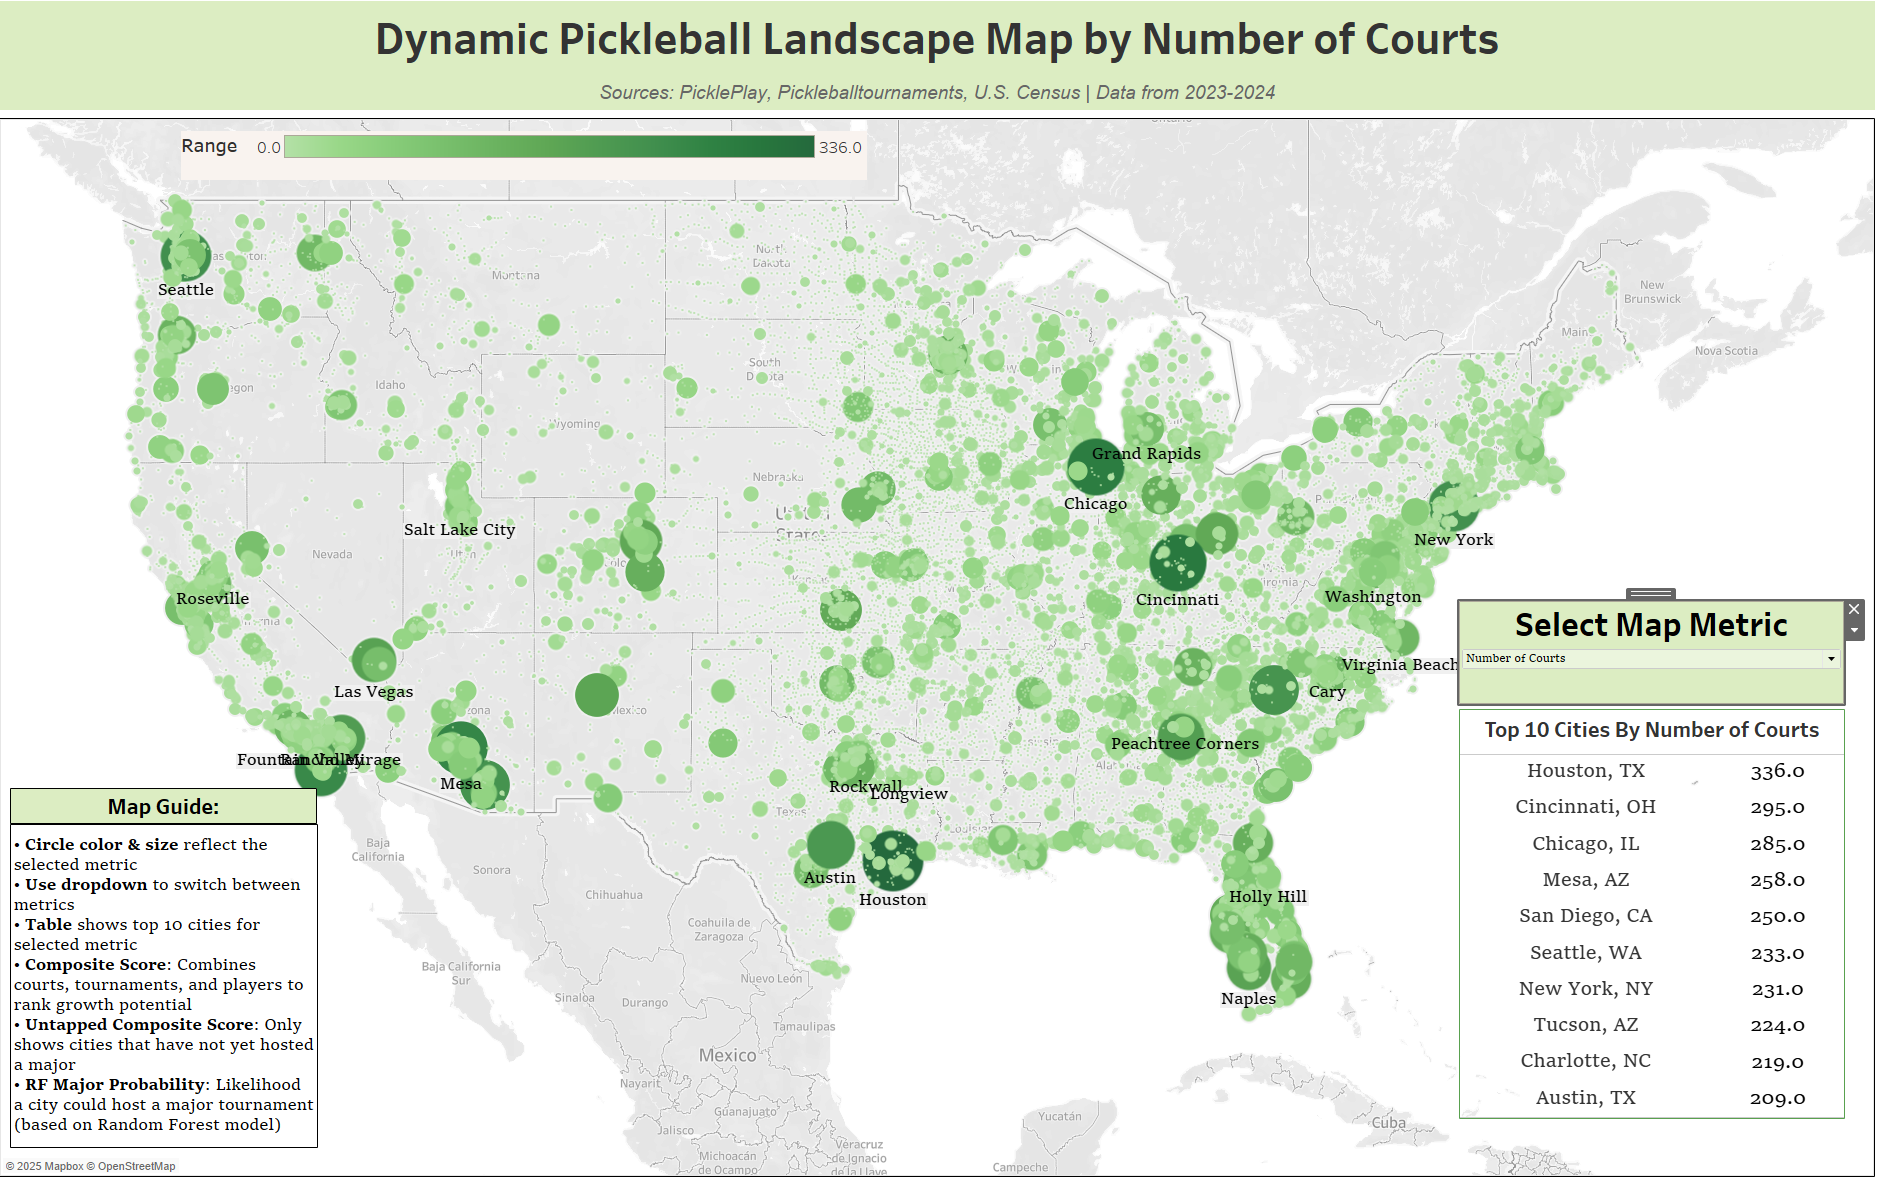

What the dashboard file says about the page in this screenshot:
{"tool":"tableau","page":{"name":"Pickleball Dynamic Overview Map","canvas":[1900,1200],"ordinal":0},"visuals":[{"type":"text","box":[8,8,1884,116.9]},{"type":"worksheet","title":"Dynamic Pickleball Landscape Map","mark":"Automatic","box":[8,124.9,1884,1067.1]},{"type":"legend","title":"Dynamic Pickleball Landscape Map","param":"[federated.1uroyys0okk61s14kenbh1t98qae].[avg:Calculation_2274880825338425361:qk","box":[194,141.8,686,49.1]},{"type":"parameter","param":"[Parameters].[Parameter 2]","box":[1472,612,385,103]},{"type":"worksheet","title":"Top 10","mark":"Automatic","rows":["city_state"],"box":[1472,720,386,410]},{"type":"text","box":[23,799,307,36]},{"type":"text","box":[23,835,308,324]}]}

Visuals, with their boxes in screenshot pixels (x1, y1, x2, y2), scaled from the page's 1900x1200 canvas onto the 1877x1178 screenshot:
text: (8,8,1869,123)
"Dynamic Pickleball Landscape Map" worksheet: (8,123,1869,1170)
"Dynamic Pickleball Landscape Map" legend: (192,139,869,187)
parameter: (1454,601,1835,702)
"Top 10" worksheet: (1454,707,1836,1109)
text: (23,784,326,820)
text: (23,820,327,1138)
